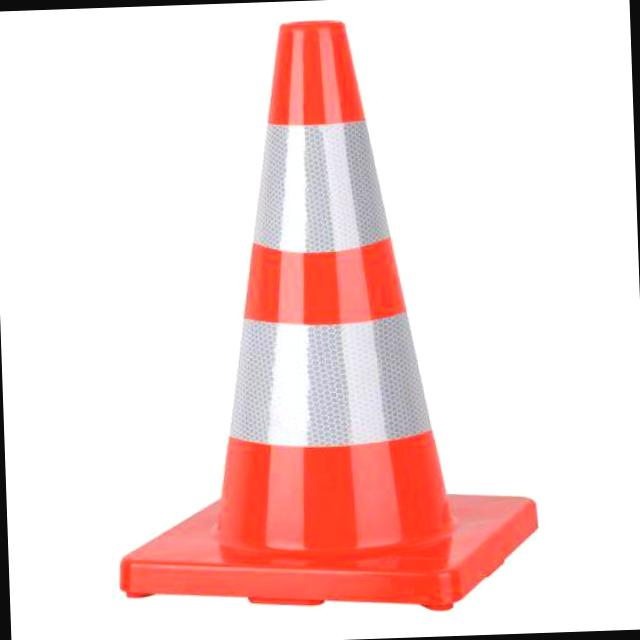cone: (106, 10, 547, 638)
